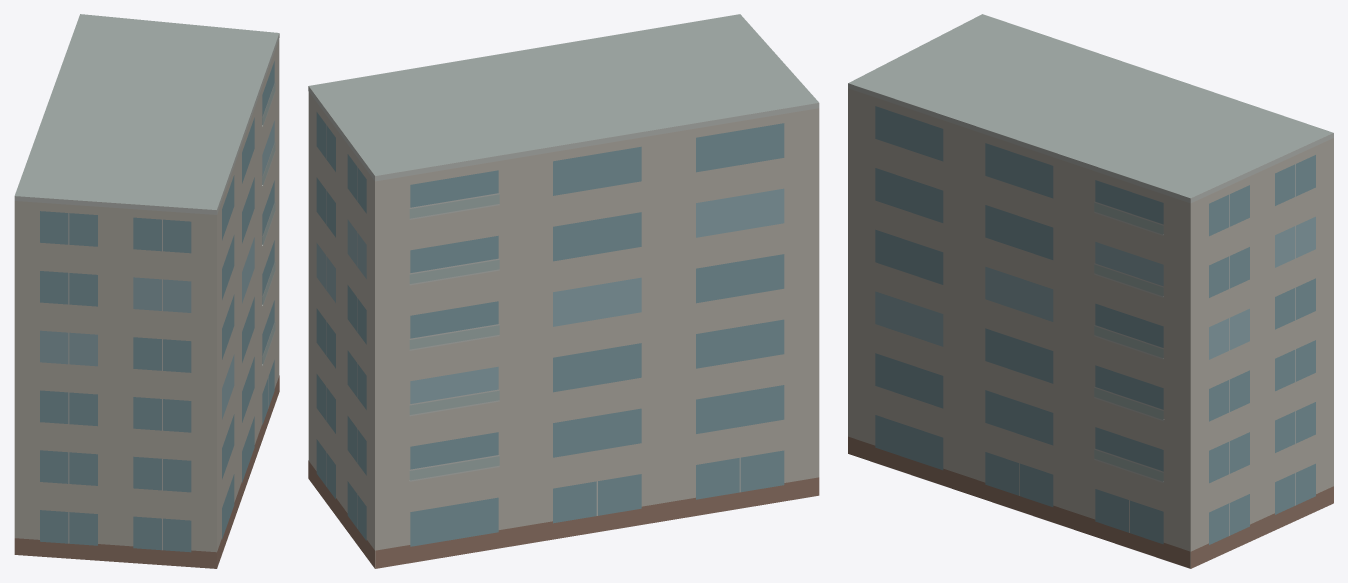
The model's file is survey-upis-33016407.glb.
The picture shows the model from 3 angles, left to right: view 1: azimuth 30°, elevation 25°; view 2: azimuth 150°, elevation 25°; view 3: azimuth 270°, elevation 25°; orthographic projection. The views are drawn at different scales.
Parts seen in each view (by area): view 1: survey-upis-33016407.tmp; view 2: survey-upis-33016407.tmp; view 3: survey-upis-33016407.tmp.
Part boxes in pixels (box(x1,y1,x2,y2)): survey-upis-33016407.tmp: box(14, 14, 279, 568); survey-upis-33016407.tmp: box(308, 14, 819, 568); survey-upis-33016407.tmp: box(848, 14, 1333, 568).
Size of the model in its own units: 19.21 by 18 by 21.39.
